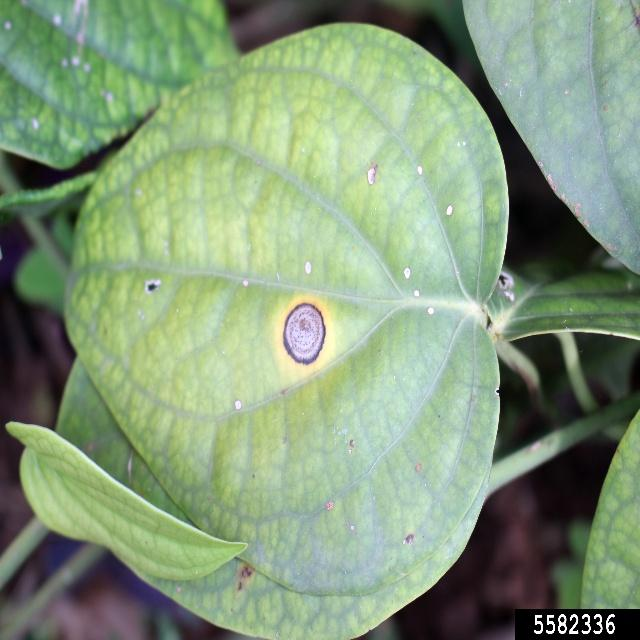leaf_spot: (145, 212, 454, 459)
